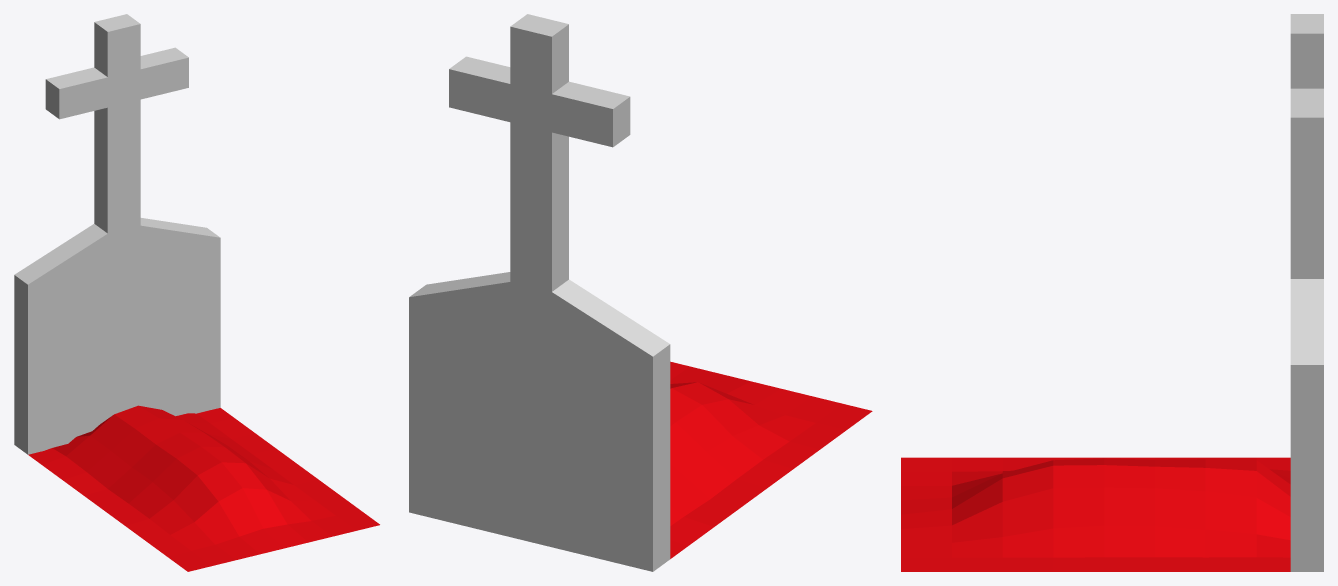
Rendered from Grave_04.fbx.
3 views of the same model, side by side, from view 1: azimuth 30°, elevation 25°; view 2: azimuth 150°, elevation 25°; view 3: azimuth 270°, elevation 25° (orthographic). The views are drawn at different scales.
Parts seen in each view (by area): view 1: Cube.004, Plane.005; view 2: Cube.004, Plane.005; view 3: Plane.005, Cube.004.
Boxes of the visible parts, box(x1,y1,x2,y2) form: Cube.004: box(14, 14, 220, 454); Plane.005: box(28, 405, 379, 571); Cube.004: box(409, 14, 670, 571); Plane.005: box(670, 361, 872, 558); Plane.005: box(901, 457, 1290, 571); Cube.004: box(1290, 14, 1323, 571).
Size of the model in its own units: 2 by 4 by 3.12.
